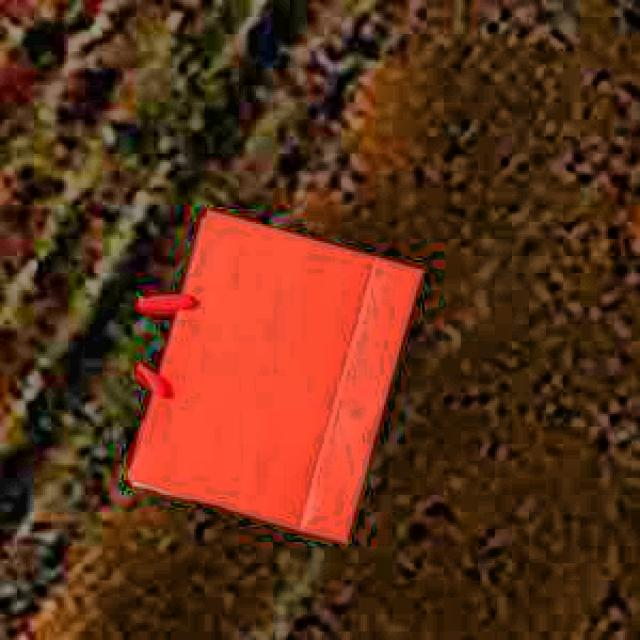Paper-bag: (103, 194, 429, 565)
